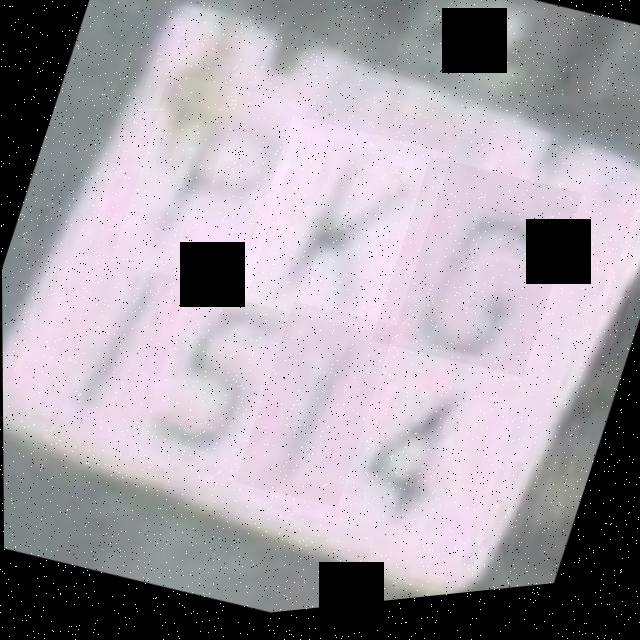1: (33, 222, 199, 453), (232, 299, 396, 522)
4: (313, 331, 500, 582)
5: (128, 265, 306, 484)
C: (369, 154, 582, 401)
N: (231, 108, 453, 358)
P: (109, 65, 309, 310)
